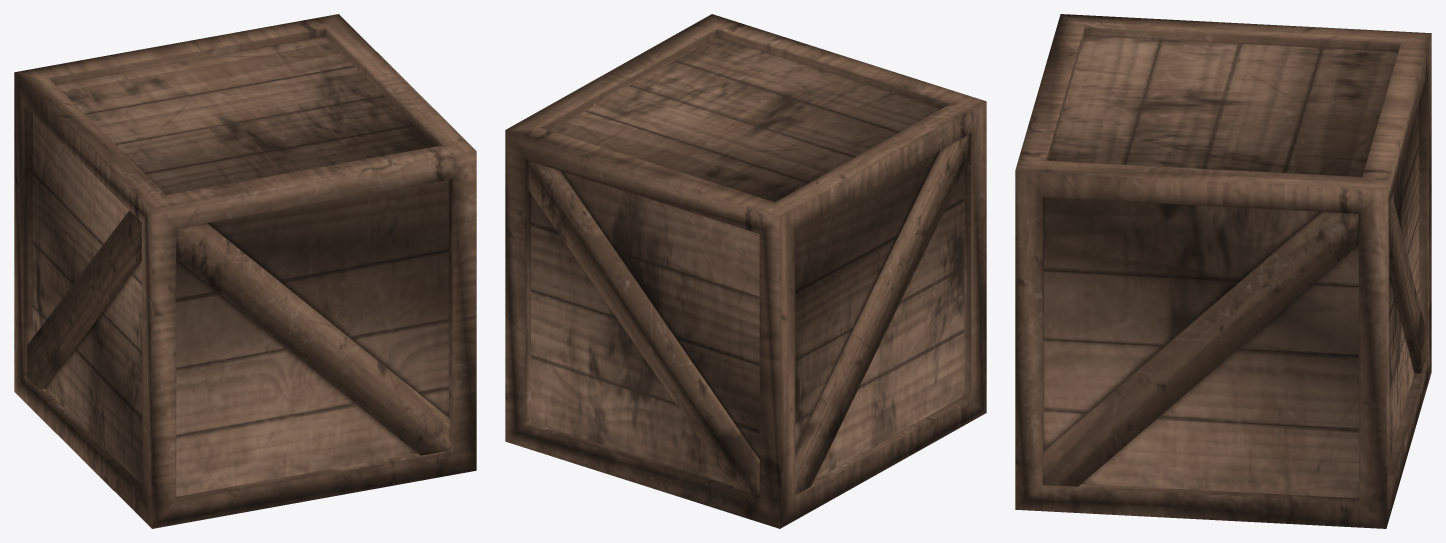
The model's file is wooden_box.glb.
3 views of the same model, side by side, from view 1: azimuth 30°, elevation 25°; view 2: azimuth 150°, elevation 25°; view 3: azimuth 270°, elevation 25° (orthographic). The views are drawn at different scales.
Visible parts, largest first — view 1: Box2_Box2_Wood_Frame_0; view 2: Box2_Box2_Wood_Frame_0; view 3: Box2_Box2_Wood_Frame_0.
Part boxes in pixels (x1,y1,x2,y2): Box2_Box2_Wood_Frame_0: (14,14,476,528); Box2_Box2_Wood_Frame_0: (505,14,986,528); Box2_Box2_Wood_Frame_0: (1015,14,1431,528).
Bounding box in the file's own units: 1.04 × 0.9343 × 1.04.
3 materials, 3 textured.
